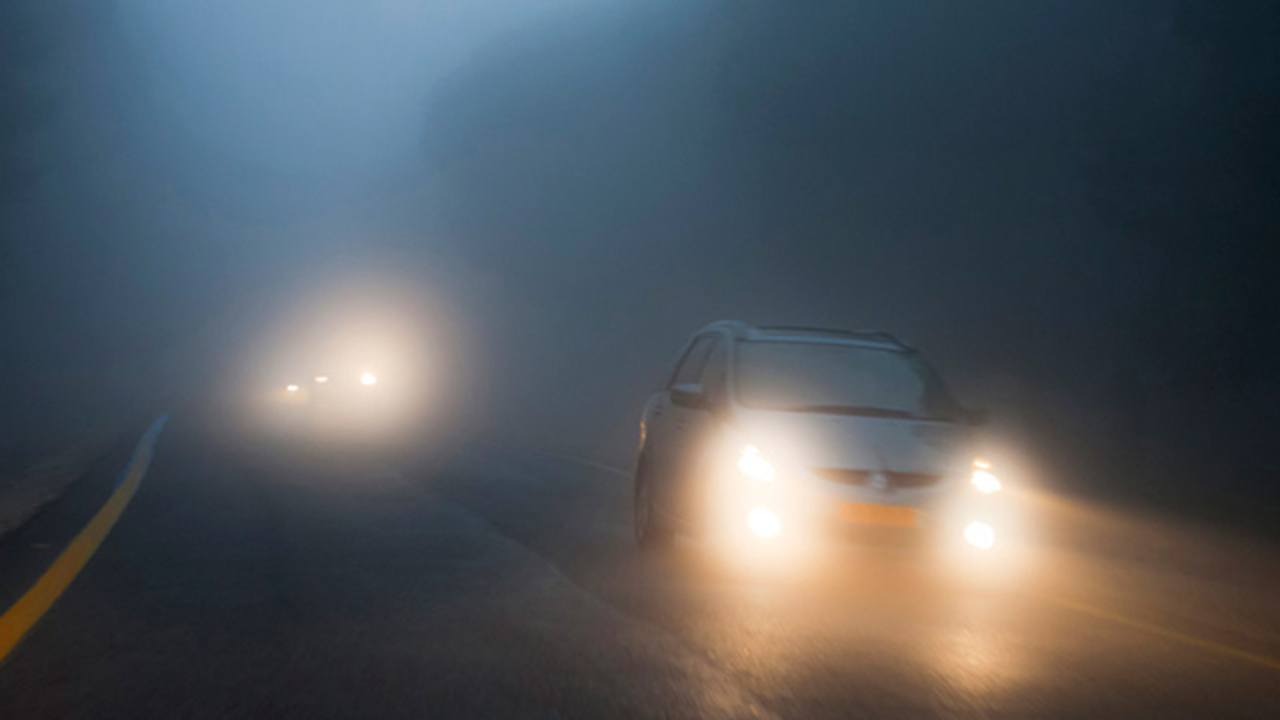car: (632, 322, 1002, 598), (307, 337, 381, 398)
